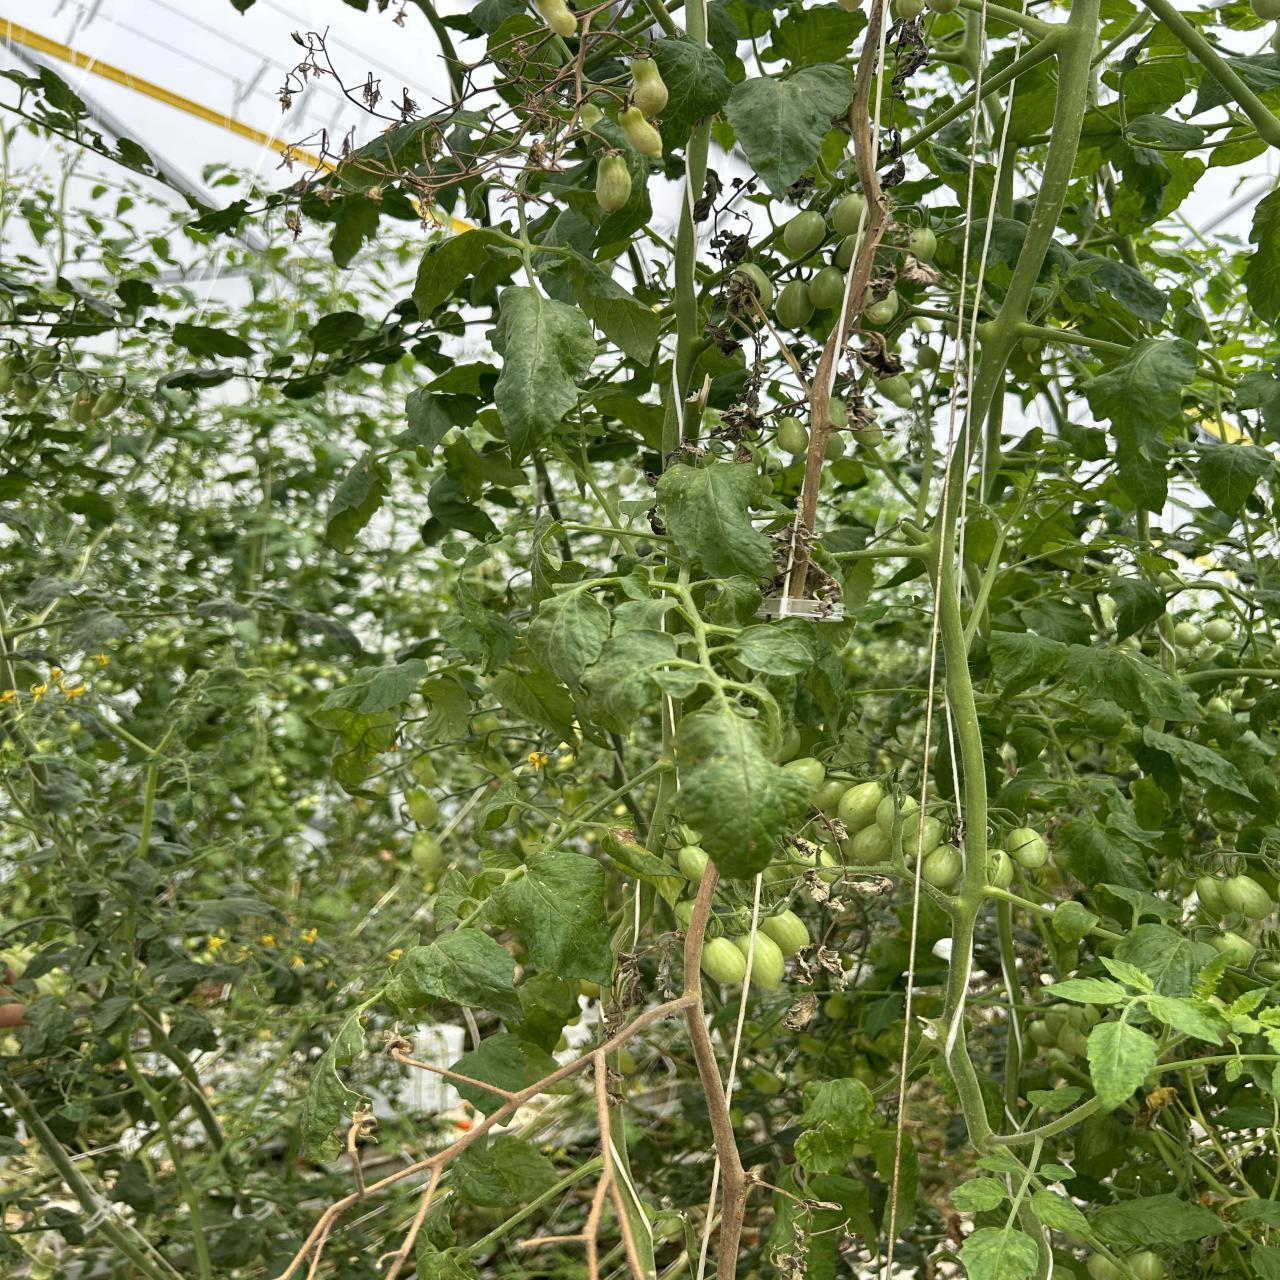Rugose stem: (558, 862, 747, 1280)
Rugose tomato: (618, 105, 662, 158), (632, 57, 668, 120), (595, 151, 631, 213), (579, 102, 604, 130)
